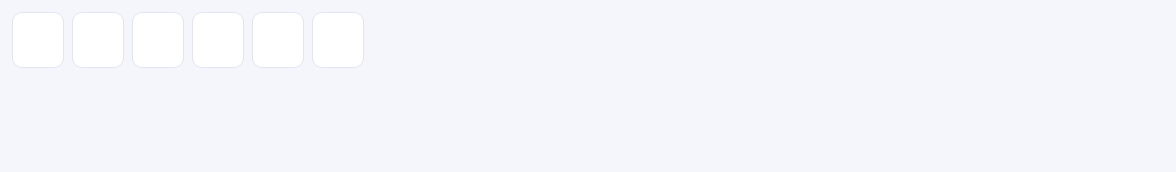
Test: CodeInput › ignores letters typed between digits
Later steps or results of the test are not shown.
Type "4a8" into the field named "6-digit code". click: coordinates (588, 40)
box: [12,12,1164,68]
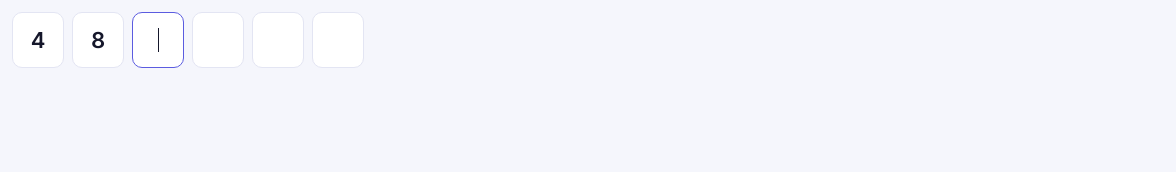
Check: the field named "6-digit code" holds "48", box [12,12,1164,68]
